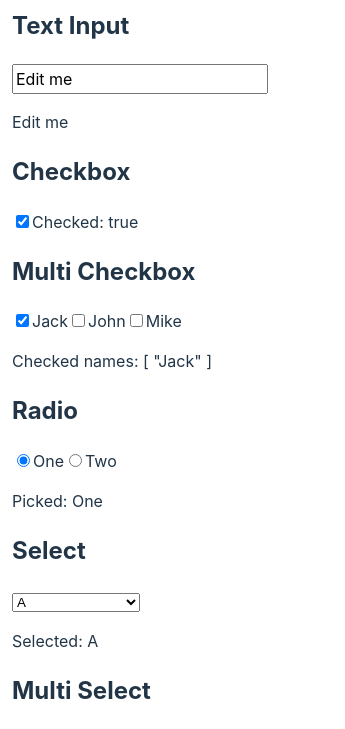
Test: FormBindings › 複数チェックボックスが v-model で配列にバインディングされる
Expected: the checkbox with id "jack" is checked, [16,314,29,327]
Expected: the checkbox with id "mike" is not checked, [130,314,143,327]
Click the checkbox with id "john". click: (78, 321)
box: [72,314,85,327]
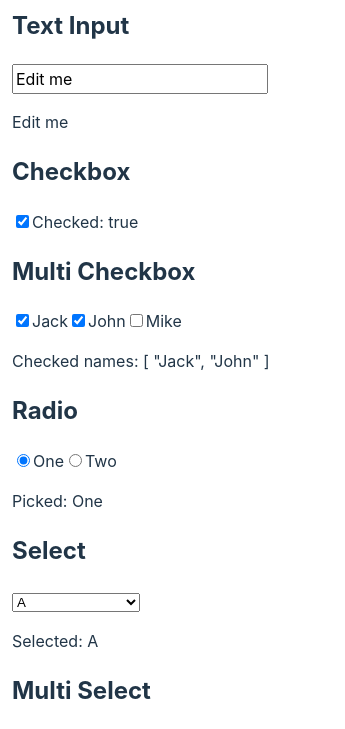
Click the checkbox with id "mike". click: (136, 321)
box: [130,314,143,327]
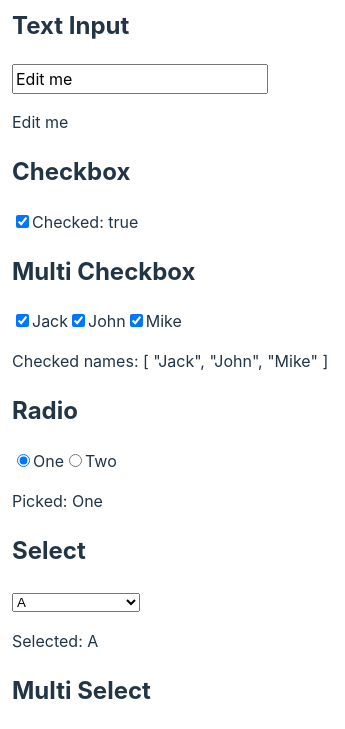
Expected: the text with id "checked-names-output" shows "\"Jack\"", [12,351,328,371]
Result: the text with id "checked-names-output" shows "\"John\"" at [12,351,328,371]
Result: the text with id "checked-names-output" shows "\"Mike\"" at [12,351,328,371]
Click the checkbox with id "jack". click: (22, 321)
box: [16,314,29,327]
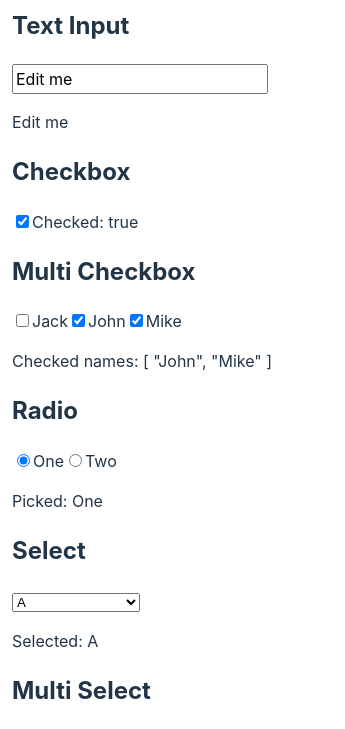
Result: the text with id "checked-names-output" shows "\"John\"" at [12,351,272,371]
Result: the text with id "checked-names-output" shows "\"Mike\"" at [12,351,272,371]
Result: the text with id "checked-names-output" no longer shows "\"Jack\""
